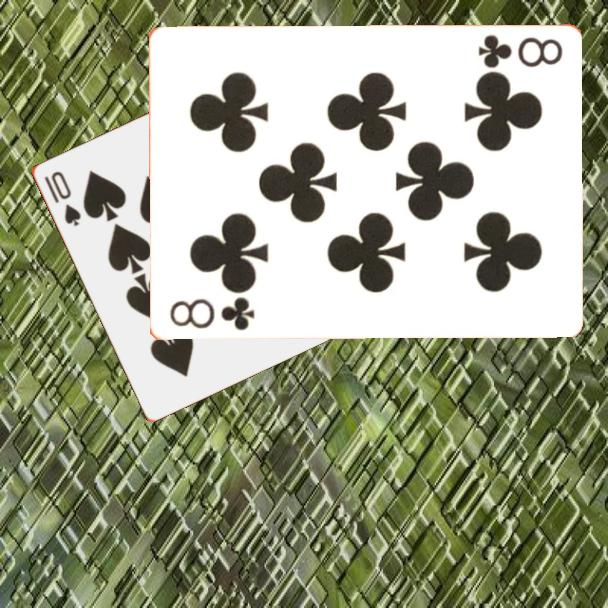c08: (166, 294, 257, 334), (474, 32, 565, 72)
s10: (40, 167, 83, 229)
